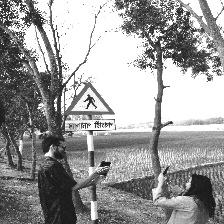Pedestrian-crossing: (60, 79, 118, 137)
